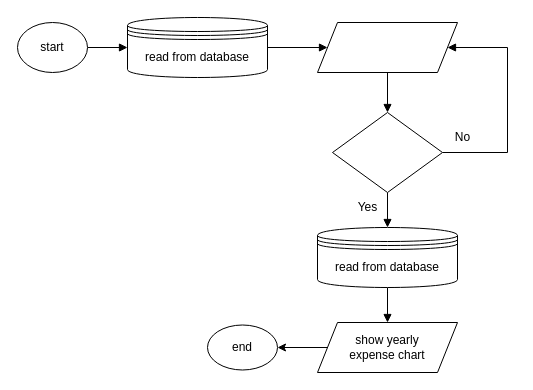
The diagram is 533 pixels wide and 390 high, and some of its shapes have lost their labels. The box of each missing label's shape, as (x1, y1, x2, y2) in pixels:
select year?: (332, 112, 442, 192)
show monthly expense chart for current month: (316, 22, 458, 72)
